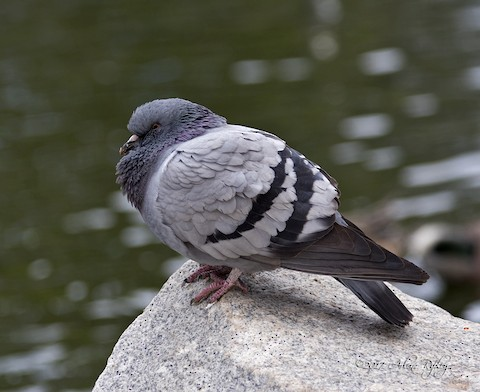pigeon: (111, 94, 436, 330)
